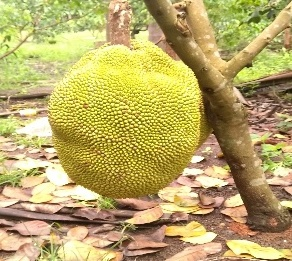Mit: (48, 42, 202, 195)
